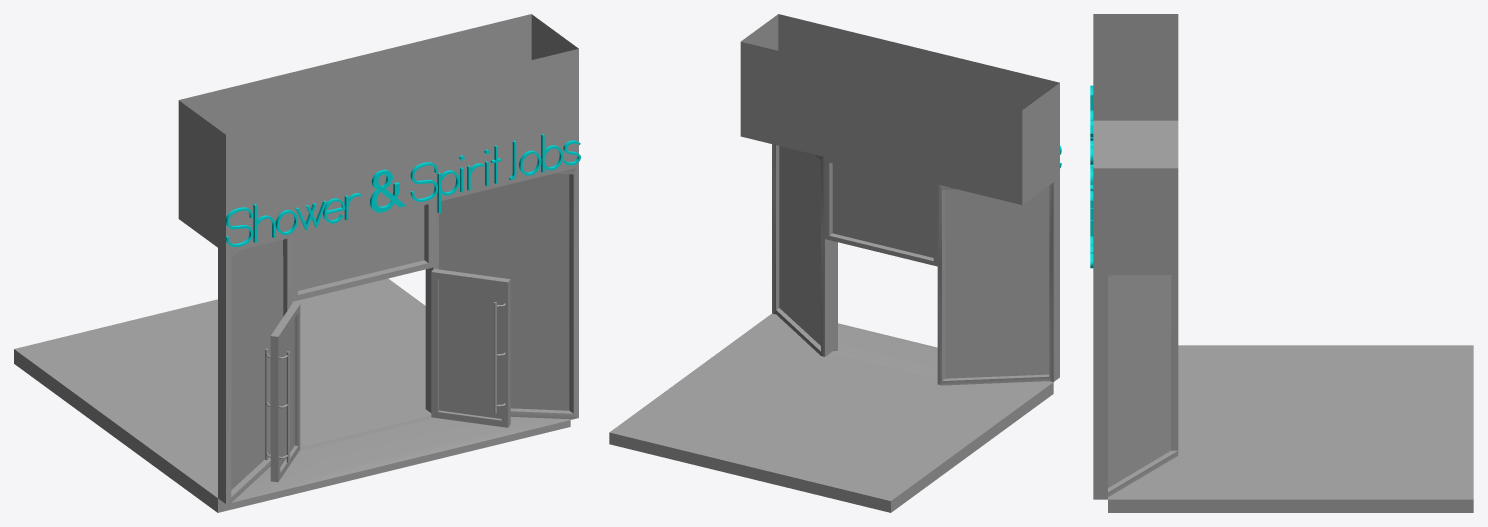
Rendered from CS_SM_StrFr_SSJ.fbx.
3 renders of one model, left to right at view 1: azimuth 30°, elevation 25°; view 2: azimuth 150°, elevation 25°; view 3: azimuth 270°, elevation 25°, orthographic. The views are drawn at different scales.
Visible parts, largest first — view 1: SM_StrFr_SSJ; view 2: SM_StrFr_SSJ; view 3: SM_StrFr_SSJ.
Boxes of the visible parts, <box> form: SM_StrFr_SSJ: <box>14,14,580,512</box>; SM_StrFr_SSJ: <box>609,14,1061,512</box>; SM_StrFr_SSJ: <box>1090,14,1473,512</box>.
Size of the model in its own units: 501 by 520 by 524.
